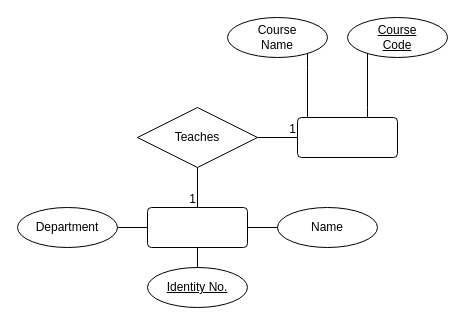
Image size: 465x325. Some labels were removed from this diagram. The shapes that lost their labels are listed below. From the top down, each one's centre as x and y in pixels, then its label:
At point 347,137: "Course".
At point 197,227: "Professor".
